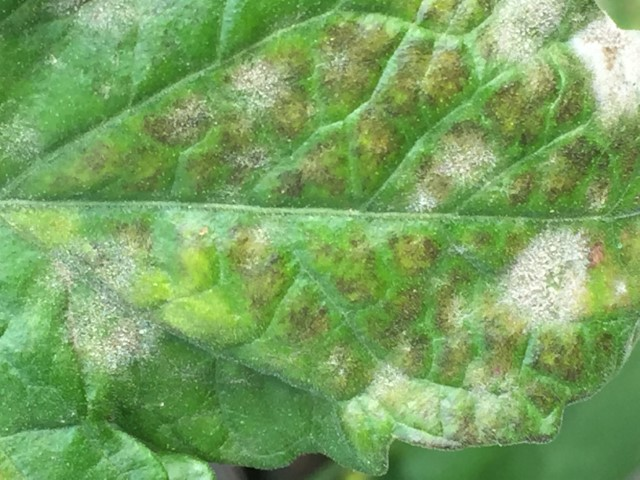oidio: (45, 239, 162, 376), (503, 226, 588, 334), (570, 11, 640, 127), (492, 1, 564, 64), (227, 59, 288, 132), (464, 367, 518, 437), (437, 137, 499, 192), (61, 1, 159, 34), (1, 110, 45, 173), (167, 98, 210, 144), (345, 395, 389, 433), (226, 146, 272, 168), (324, 347, 353, 379), (372, 363, 404, 391), (448, 297, 476, 329), (408, 186, 437, 215), (316, 51, 348, 71), (587, 186, 607, 210), (615, 281, 629, 299), (42, 53, 58, 67), (548, 151, 558, 165)
